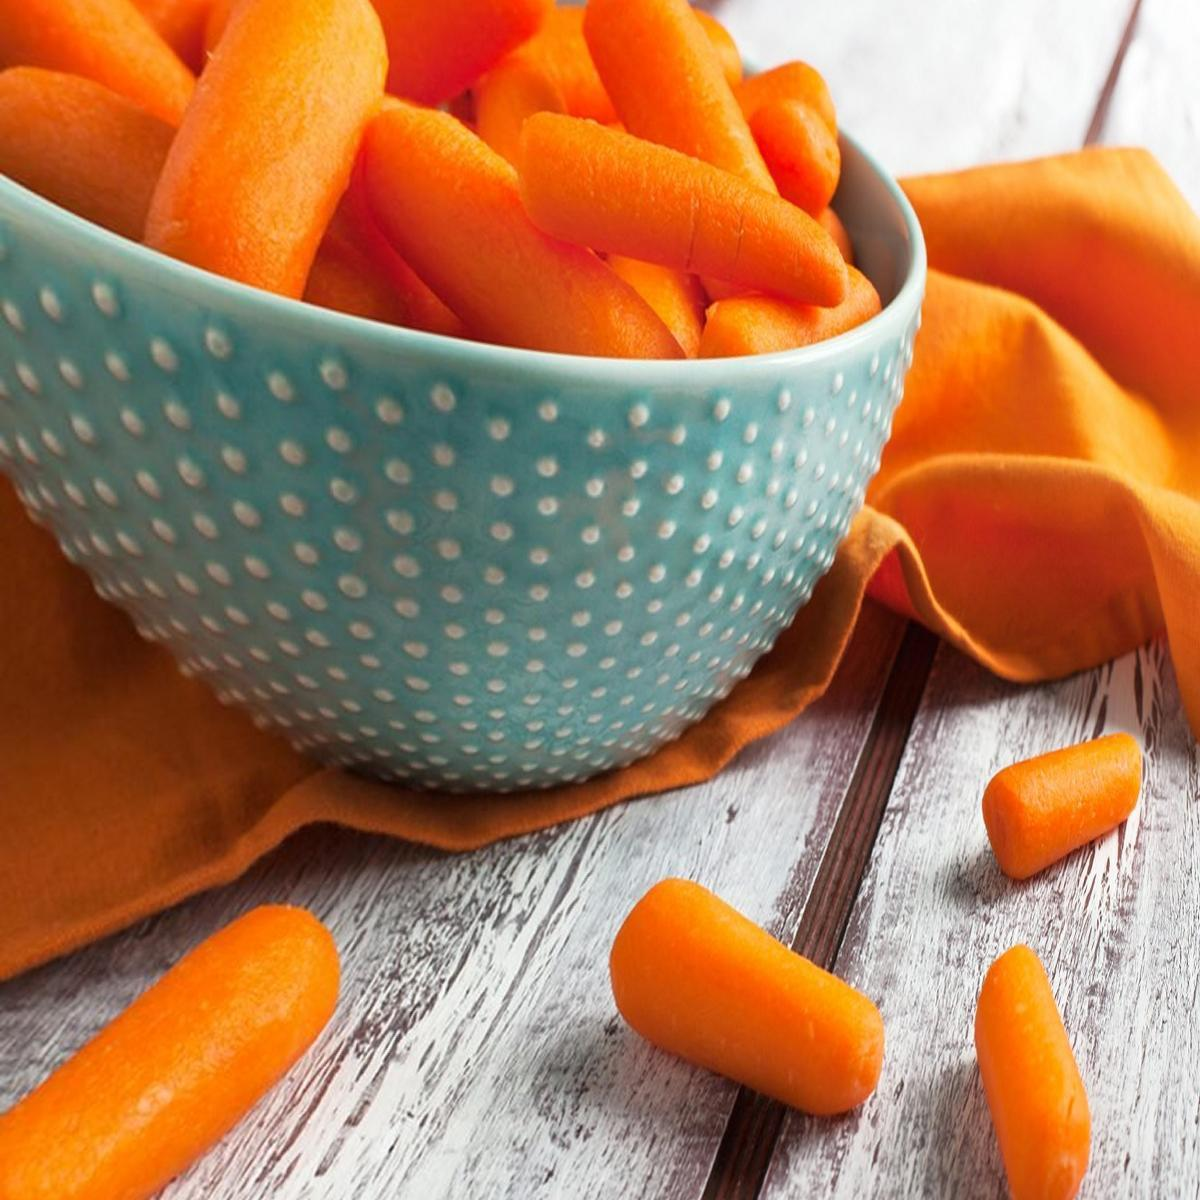carrot: (13, 0, 832, 338), (46, 914, 347, 1200), (515, 95, 862, 326), (609, 888, 882, 1127), (169, 0, 374, 288), (973, 948, 1098, 1200), (985, 756, 1158, 873)
